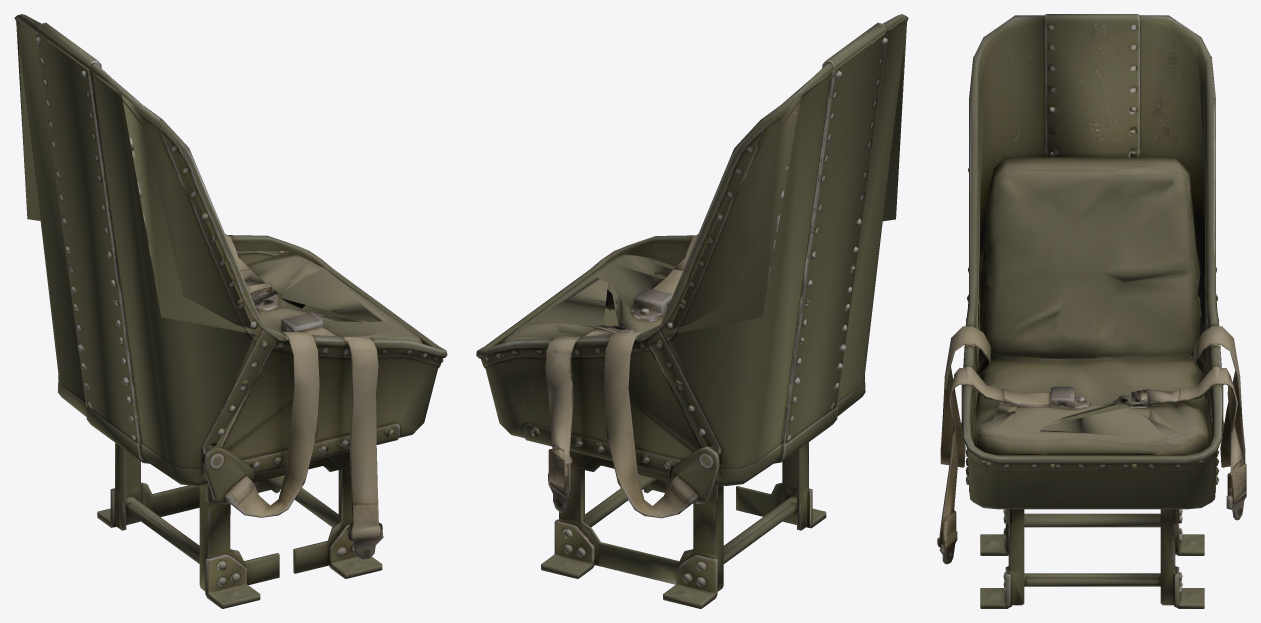
The model's file is seat_remesh.glb.
The picture shows the model from 3 angles, left to right: view 1: azimuth 30°, elevation 25°; view 2: azimuth 150°, elevation 25°; view 3: azimuth 270°, elevation 25°; orthographic projection. The views are drawn at different scales.
Visible parts, largest first — view 1: tripo_node_d427ee23-c772-4483-9182-6663a; view 2: tripo_node_d427ee23-c772-4483-9182-6663a; view 3: tripo_node_d427ee23-c772-4483-9182-6663a.
Part boxes in pixels (box(x1,y1,x2,y2)): tripo_node_d427ee23-c772-4483-9182-6663a: box(14, 14, 447, 608); tripo_node_d427ee23-c772-4483-9182-6663a: box(476, 14, 908, 608); tripo_node_d427ee23-c772-4483-9182-6663a: box(937, 14, 1246, 608).
Bounding box in the file's own units: 0.6321 × 0.998 × 0.5773.
Materials: 1 (1 with a texture image).
